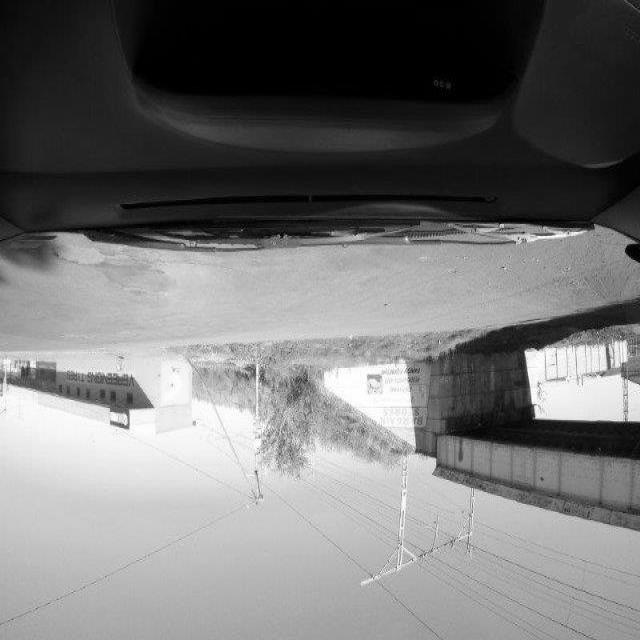lubang: (45, 242, 114, 276)
